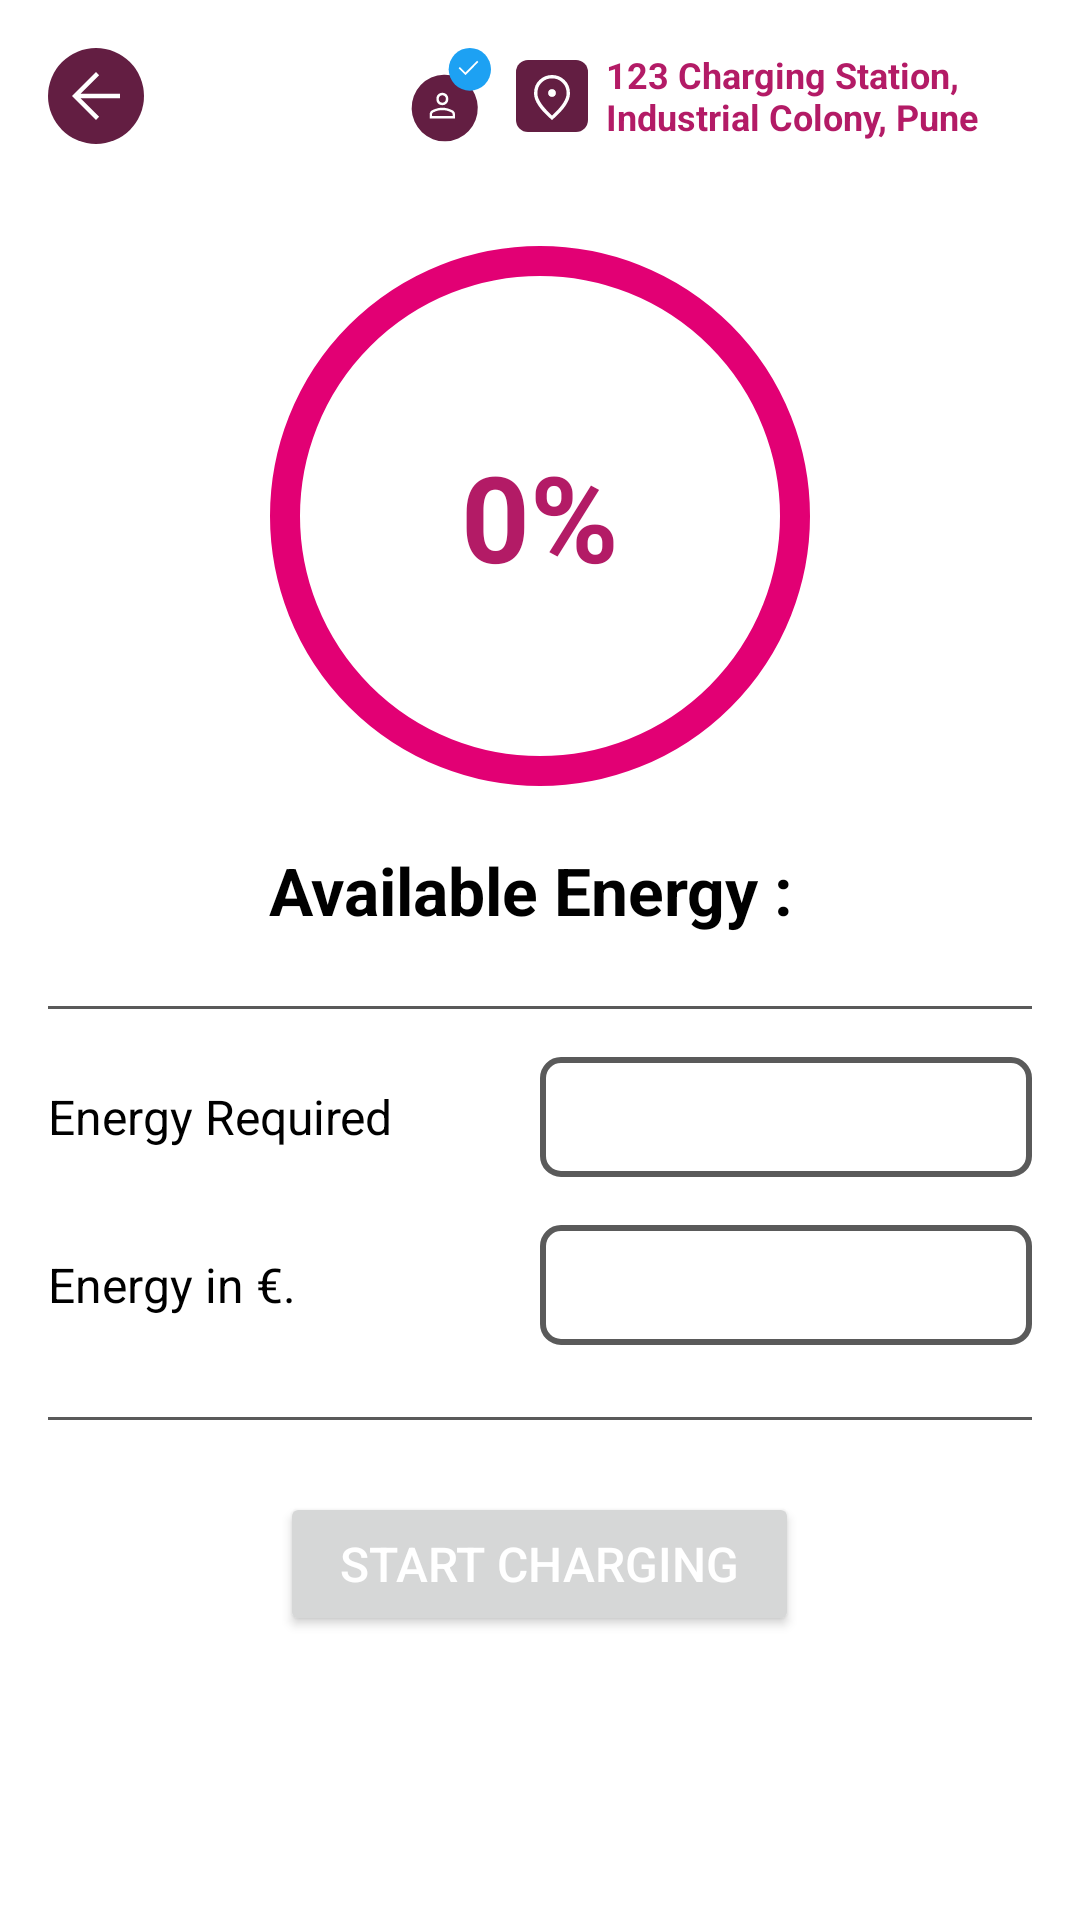

Icons on this 1080*1920 Android screen, each with its box as (x1, y1, x2, y2):
back: (48, 48, 144, 144)
issuer info: (411, 48, 491, 142)
location: (516, 60, 588, 132)
